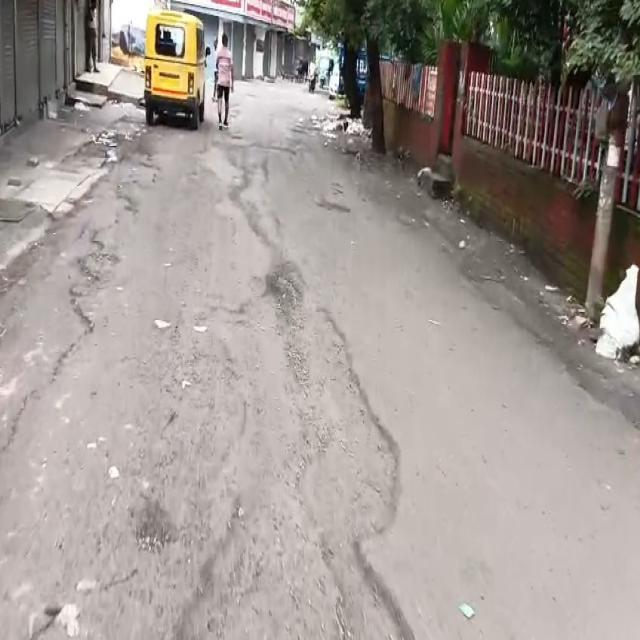road-pothole: (1, 314, 243, 633), (275, 260, 412, 633)
